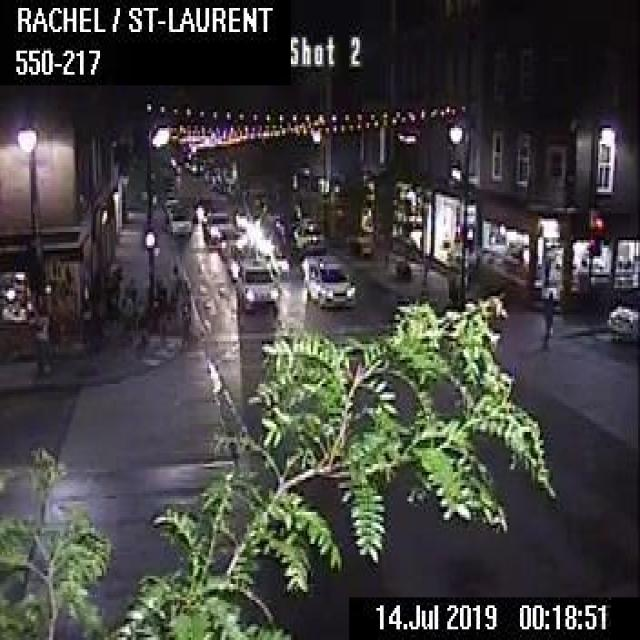pedestrian: (170, 259, 182, 322), (542, 285, 553, 339), (124, 274, 138, 314)
vehicle: (304, 255, 355, 304), (604, 282, 638, 338), (238, 261, 278, 307), (294, 215, 324, 259), (226, 241, 260, 278), (203, 208, 232, 241), (218, 225, 245, 255), (167, 210, 191, 233)
